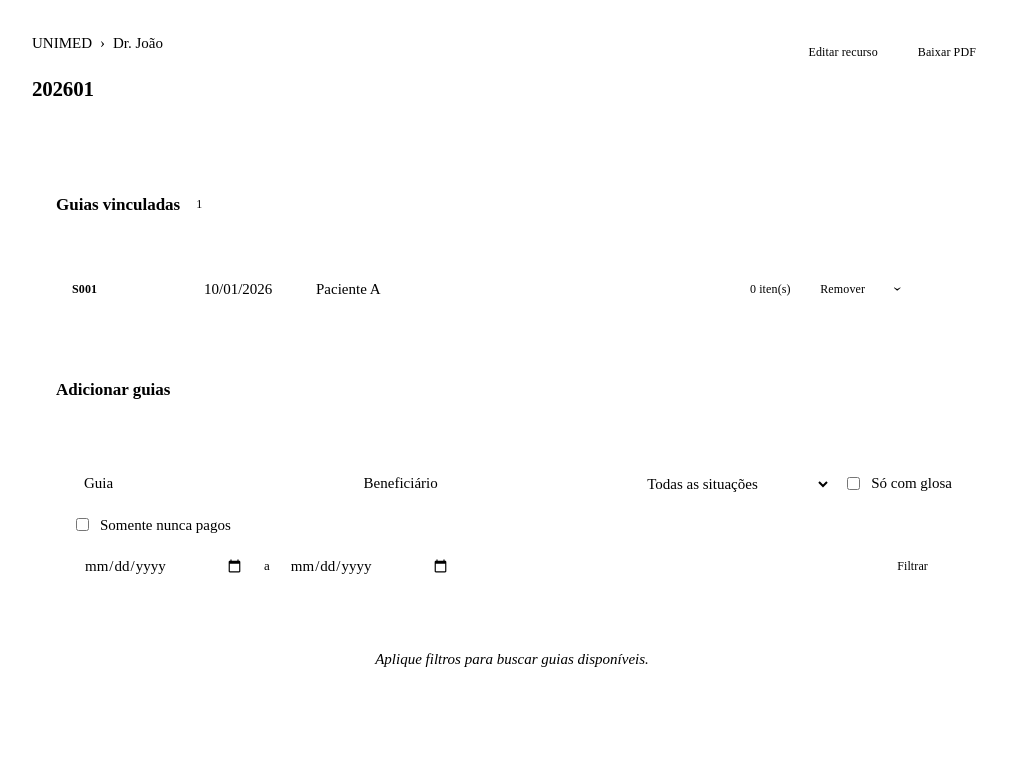
Test: RecursoGuiasComponent › tabelaCandidataExibeResultados
This screenshot has width=1024, height=762.
Click the button with class "recurso-guias__btn-filtrar" at (913, 566), box [873, 548, 952, 584]
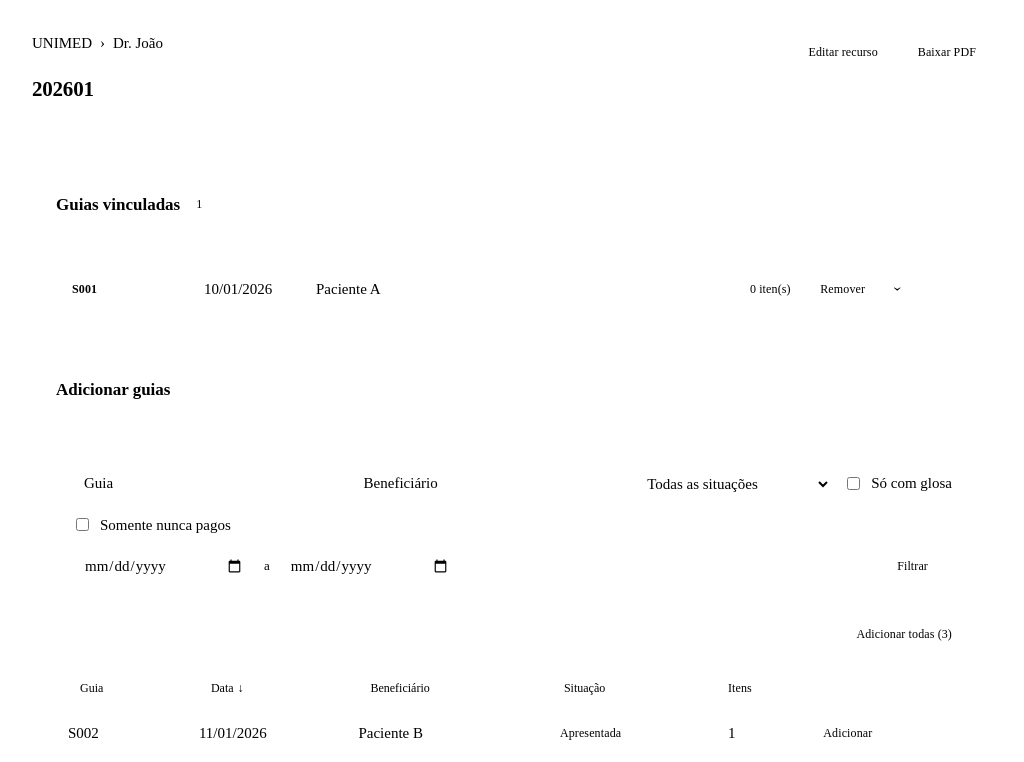
Result: the number of rows with class "recurso-guias__linha-candidata" is 3
